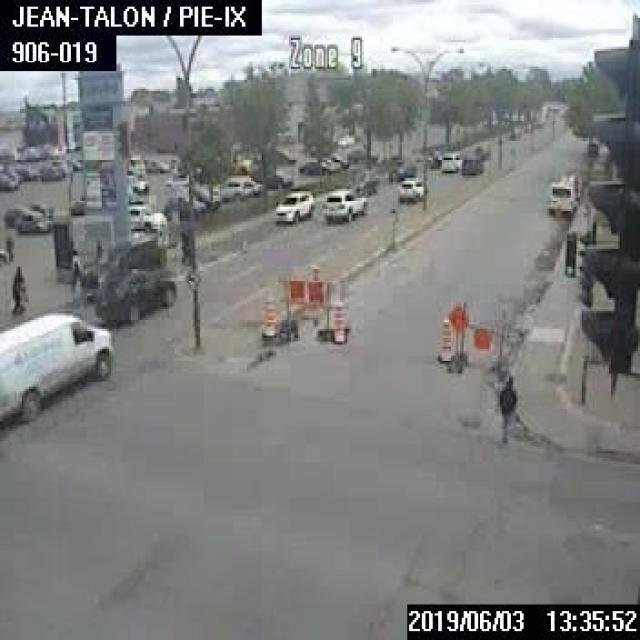construction: (276, 264, 350, 341), (442, 300, 509, 372), (437, 315, 451, 361), (260, 292, 274, 336), (330, 300, 344, 342)
pedestrian: (493, 371, 518, 445), (7, 260, 29, 313), (67, 247, 91, 291), (3, 230, 13, 259)
vehicle: (0, 310, 113, 430), (92, 268, 175, 322), (320, 187, 365, 219), (274, 188, 312, 224), (548, 175, 576, 218), (127, 204, 165, 228), (163, 194, 203, 216), (345, 169, 378, 194), (14, 210, 51, 230), (189, 186, 219, 210), (217, 177, 249, 199), (385, 156, 414, 180), (228, 173, 260, 194), (397, 175, 422, 200), (258, 170, 292, 187), (3, 204, 30, 224), (344, 145, 376, 161), (298, 158, 330, 174), (25, 197, 53, 215), (439, 151, 460, 171), (461, 153, 482, 172), (51, 157, 67, 175), (145, 158, 167, 171), (14, 164, 36, 177), (328, 153, 347, 167), (0, 173, 15, 189), (319, 157, 338, 169), (274, 149, 293, 161), (38, 165, 57, 177), (427, 150, 440, 166), (584, 138, 596, 154)
